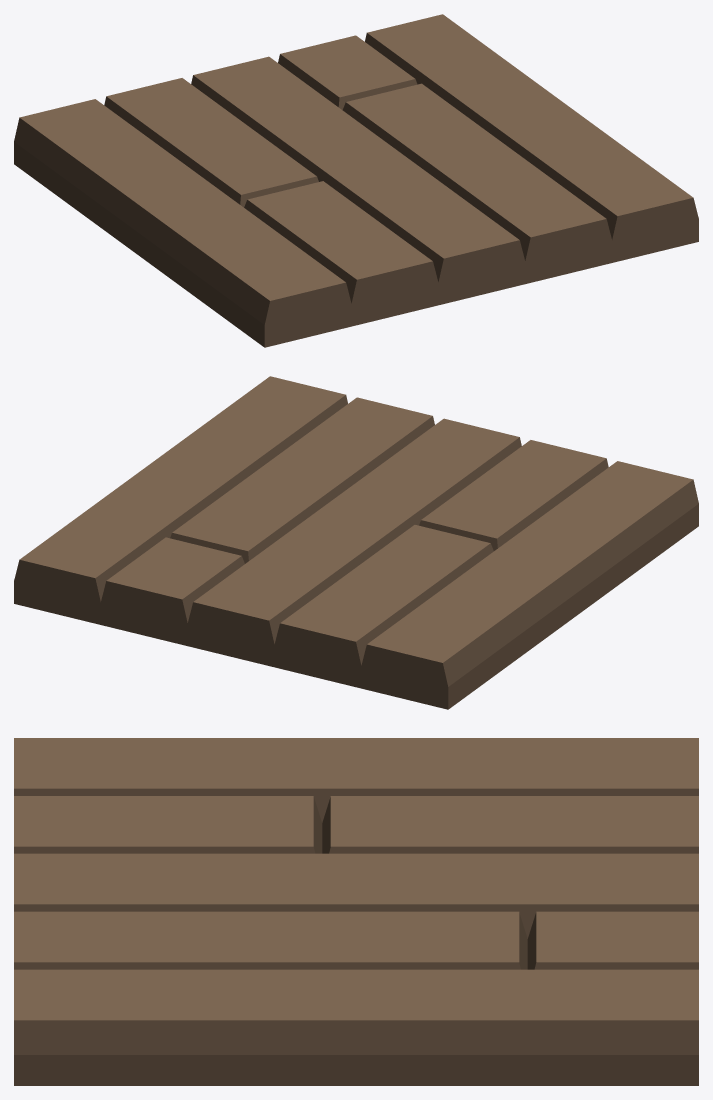
File: Wood_Floor_Straight_1.glb
3 views of the same model, one above another, from view 1: azimuth 30°, elevation 25°; view 2: azimuth 150°, elevation 25°; view 3: azimuth 270°, elevation 25° (orthographic). The views are drawn at different scales.
Visible parts, largest first — view 1: Wood_Floor_Straight_1; view 2: Wood_Floor_Straight_1; view 3: Wood_Floor_Straight_1.
Part boxes in pixels (box(x1,y1,x2,y2)): Wood_Floor_Straight_1: box(14, 14, 698, 347); Wood_Floor_Straight_1: box(14, 376, 698, 709); Wood_Floor_Straight_1: box(14, 738, 698, 1085).
Bounding box in the file's own units: 1 × 0.1 × 1.
